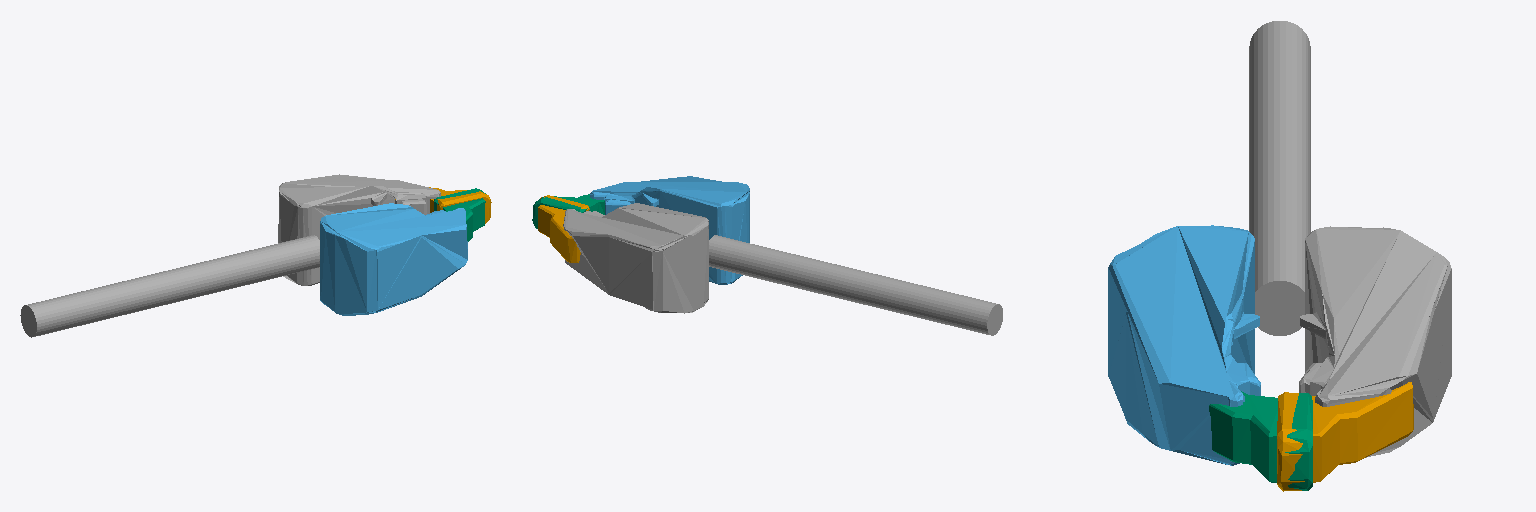
robot.urdf — basic_gripper:
<?xml version="1.0"?>
<robot name="basic_gripper">
  <link name="world"/>
  <joint name="txj" type="prismatic">
    <limit lower="-2.0" upper="2.0"/>
    <origin rpy="0 0 0" xyz="0 0 0"/>
    <axis xyz="1 0 0"/>
    <parent link="world"/>
    <child link="ty"/>
  </joint>
  <link name="ty"/>
  <joint name="tyj" type="prismatic">
    <limit lower="-2.0" upper="2.0"/>
    <axis xyz="0 1 0"/>
    <parent link="ty"/>
    <child link="tz"/>
  </joint>
  <link name="tz"/>
  <joint name="tzj" type="prismatic">
    <limit lower="0" upper="2.0"/>
    <axis xyz="0 0 1"/>
    <parent link="tz"/>
    <child link="rx"/>
  </joint>
  <link name="rx"/>
    <joint name="rxj" type="continuous">
    <axis xyz="1 0 0"/>
    <parent link="rx"/>
    <child link="ry"/>
  </joint>
  <link name="ry"/>
  <joint name="ryj" type="continuous">
    <axis xyz="0 1 0"/>
    <parent link="ry"/>
    <child link="rz"/>
  </joint>
  <link name="rz"/>
  <joint name="rzj" type="continuous">
    <axis xyz="0 0 1"/>
    <parent link="rz"/>
    <child link="gripper_pole"/>
  </joint>
  <link name="gripper_pole">
    <visual>
      <geometry>
        <cylinder length="0.2" radius=".01"/>
      </geometry>
      <origin rpy="0 1.57075 0 " xyz="0.1 0 0"/>
      <material name="Gray">
        <color rgba=".7 .7 .7 1"/>
      </material>
    </visual>
    <collision>
      <geometry>
        <cylinder length="0.2" radius=".01"/>
      </geometry>
      <origin rpy="0 1.57075 0 " xyz="0.1 0 0"/>
    </collision>
    <inertial>
      <mass value="0.5"/>
      <inertia ixx="1.0" ixy="0.0" ixz="0.0" iyy="1.0" iyz="0.0" izz="1.0"/>
    </inertial>
  </link>


  <joint name="left_gripper_joint" type="revolute">
    <axis xyz="0 0 1"/>
    <limit effort="1000.0" lower="-2.0" upper="2.548" velocity="0.5"/>
    <origin rpy="0 0 0" xyz="0.2 0.01 0"/>
    <parent link="gripper_pole"/>
    <child link="left_gripper"/>
  </joint>

  <link name="left_gripper">
    <contact>
      <lateral_friction value="1.0"/>
      <spinning_friction value="1.5"/>
    </contact>
    <visual>
      <origin rpy="0.0 0 0" xyz="0 0 0"/>
      <geometry>
        <mesh filename="l_finger_collision.obj"/>
      </geometry>
    </visual>
    <collision>
      <origin rpy="0.0 0 0" xyz="0 0 0"/>
      <geometry>
        <mesh filename="l_finger_collision.obj"/>
      </geometry>
    </collision>
    <inertial>
      <mass value="0.1"/>
      <inertia ixx="1.0" ixy="0.0" ixz="0.0" iyy="1.0" iyz="0.0" izz="1.0"/>
    </inertial>
  </link>

  <joint name="left_tip_joint" type="fixed">
    <parent link="left_gripper"/>
    <child link="left_tip"/>
  </joint>

  <link name="left_tip">
    <contact>
      <lateral_friction value="1.0"/>
      <spinning_friction value="1.5"/>
    </contact>
    <visual>
      <origin rpy="0.0 0 0" xyz="0.09137 0.00495 0"/>
      <geometry>
        <mesh filename="l_finger_tip.obj"/>
      </geometry>
    </visual>
    <collision>
      <geometry>
        <box size=".03 .01 .02"/>
      </geometry>
      <origin rpy="0.0 0.0 0" xyz="0.105 -0.005 0"/>
    </collision>
    <inertial>
      <mass value="0.1"/>
      <inertia ixx="1.0" ixy="0.0" ixz="0.0" iyy="1.0" iyz="0.0" izz="1.0"/>
    </inertial>
  </link>

  <joint name="right_gripper_joint" type="revolute">
    <axis xyz="0 0 -1"/>
    <limit effort="1000.0" lower="-2.0" upper="2." velocity="0.5"/>
    <origin rpy="0 0 0" xyz="0.2 -0.01 0"/>
    <parent link="gripper_pole"/>
    <child link="right_gripper"/>
  </joint>

  <link name="right_gripper">
    <contact>
      <lateral_friction value="1.0"/>
      <spinning_friction value="1.5"/>
    </contact>
    <visual>
      <origin rpy="-3.1415 0 0" xyz="0 0 0"/>
      <geometry>
        <mesh filename="l_finger_collision.obj"/>
      </geometry>
    </visual>
         <collision>
      <origin rpy="-3.1415 0 0" xyz="0 0 0"/>
      <geometry>
        <mesh filename="l_finger_collision.obj"/>
      </geometry>
    </collision>
    <inertial>
      <mass value="0.1"/>
      <inertia ixx="1.0" ixy="0.0" ixz="0.0" iyy="1.0" iyz="0.0" izz="1.0"/>
    </inertial>
  </link>

  <joint name="right_tip_joint" type="fixed">
    <parent link="right_gripper"/>
    <child link="right_tip"/>
  </joint>

  <link name="right_tip">
    <contact>
      <lateral_friction value="1.0"/>
      <spinning_friction value="1.5"/>
    </contact>
    <visual>
      <origin rpy="-3.1415 0 0" xyz="0.09137 0.00495 0"/>
      <geometry>
        <mesh filename="l_finger_tip.obj"/>
      </geometry>
    </visual>
    <collision>
      <geometry>
      	<box size=".03 .01 .02"/>
      </geometry>
      <origin rpy="-3.1415 0 0" xyz="0.105 0.015 0"/>
    </collision>
	<collision>
      <geometry>
        <box size=".01 .02 .02"/>
      </geometry>
      <origin rpy="-3.1415 0 -0.5" xyz="0.095 0.005 0"/>
    </collision>

    <inertial>
      <mass value="0.1"/>
      <inertia ixx="1.0" ixy="0.0" ixz="0.0" iyy="1.0" iyz="0.0" izz="1.0"/>
    </inertial>
  </link>

  <joint name="ee" type="fixed">
    <origin xyz="0.28 0 0" rpy="0 0 0" />
    <parent link="gripper_pole"/>
    <child link="eef_link"/>
    <axis xyz="0 0 1"/>
  </joint>
  <link name="eef_link">
  </link>
</robot>

--- What the picture shows (computed from the rendered views, not written in the file) ---
The picture shows the robot from 3 angles, left to right: view 1: azimuth 30°, elevation 25°; view 2: azimuth 150°, elevation 25°; view 3: azimuth 270°, elevation 25°; orthographic projection.
Robot: basic_gripper — 12 links, 11 joints (2 revolute, 3 continuous, 3 prismatic, 3 fixed); root link world; default pose: all joints at 0.
Visible links, largest first — view 1: right_gripper, gripper_pole, left_gripper, right_tip, left_tip; view 2: left_gripper, gripper_pole, right_gripper, left_tip, right_tip; view 3: right_gripper, left_gripper, gripper_pole, left_tip, right_tip.
Boxes of the visible links, x1,y1,x2,y2 form: right_gripper: (320, 203, 467, 315); gripper_pole: (20, 235, 319, 337); left_gripper: (278, 174, 440, 285); right_tip: (434, 188, 485, 241); left_tip: (395, 187, 491, 223); left_gripper: (563, 203, 708, 313); gripper_pole: (709, 235, 1002, 335); right_gripper: (590, 176, 749, 284); left_tip: (538, 195, 589, 262); right_tip: (532, 194, 604, 228); right_gripper: (1108, 225, 1260, 465); left_gripper: (1299, 226, 1451, 457); gripper_pole: (1249, 21, 1310, 335); left_tip: (1277, 382, 1413, 491); right_tip: (1209, 391, 1312, 490).
Size in the robot's own frame: 0.3224 by 0.1115 by 0.0553 metres.
4 mesh visuals loaded from 2 distinct referenced files (2 OBJ).
